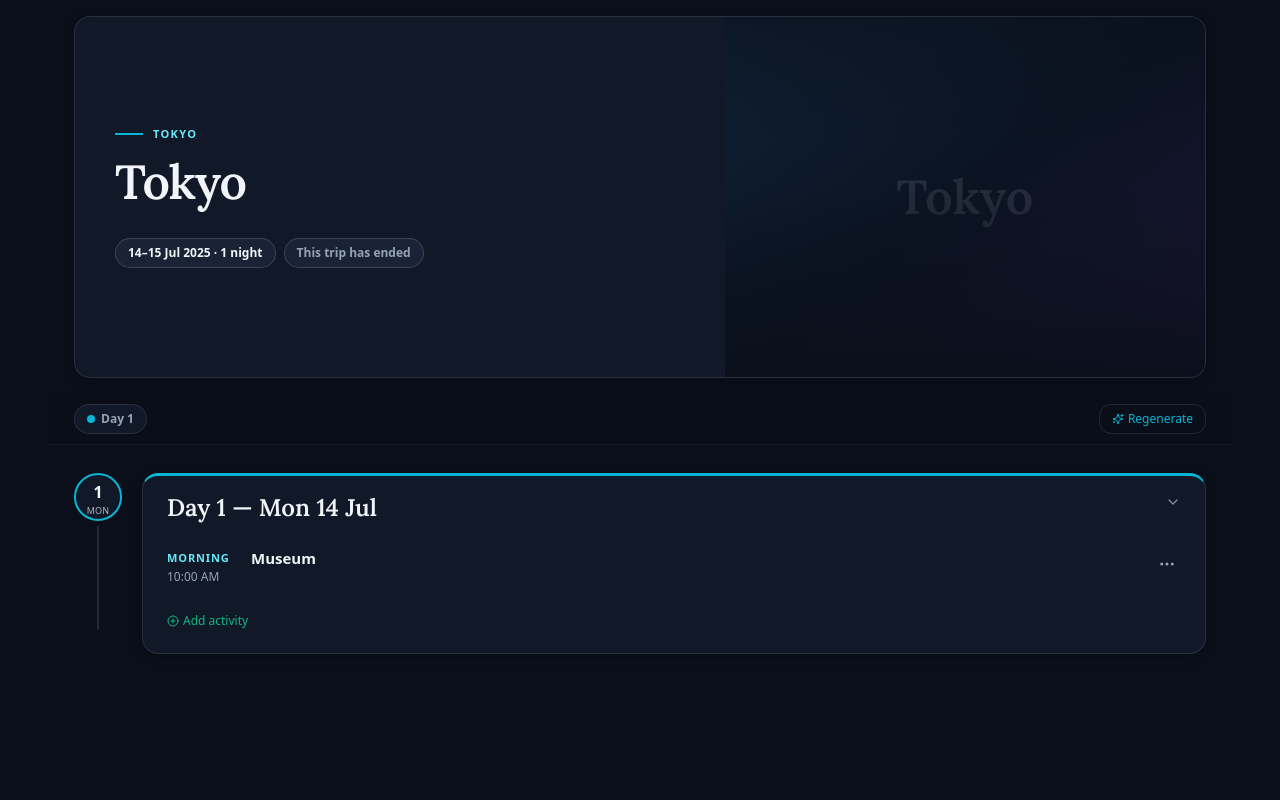
Test: adding an activity on a phone › is a dialog on desktop too, centred rather than pinned
Step 1. Click the button "Add activity" → click(208, 620), box 167,604 -> 248,636
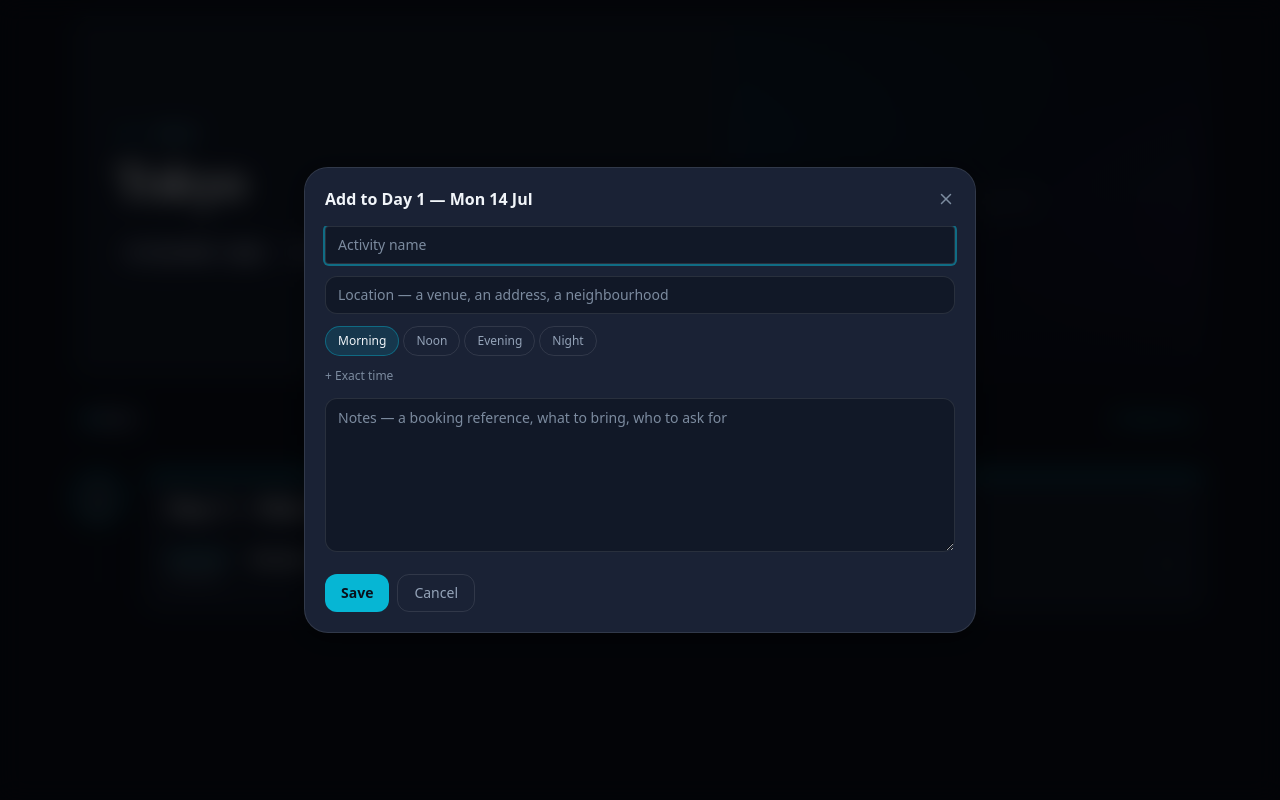
Result: the dialog with test id "modal" is shown at 304,167 -> 976,633
